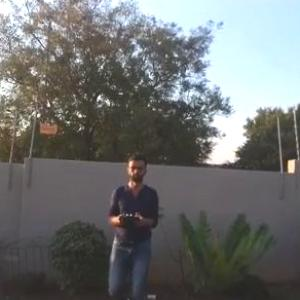follow: (102, 148, 163, 299)
